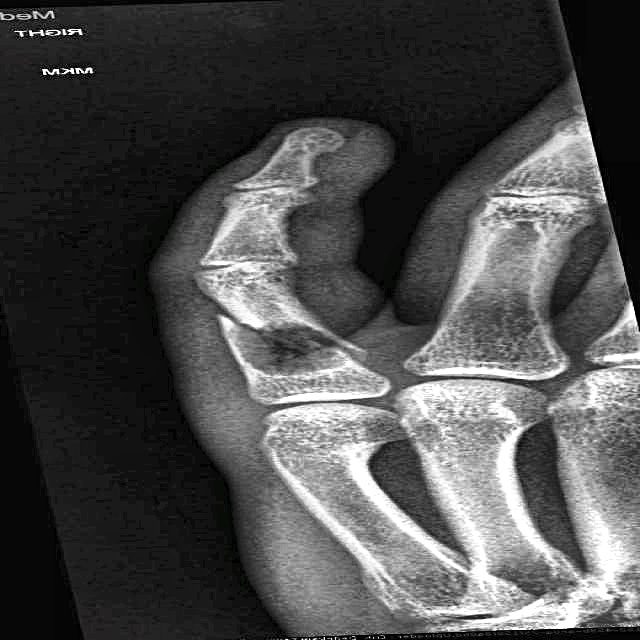Greenstick: (181, 291, 387, 399)
